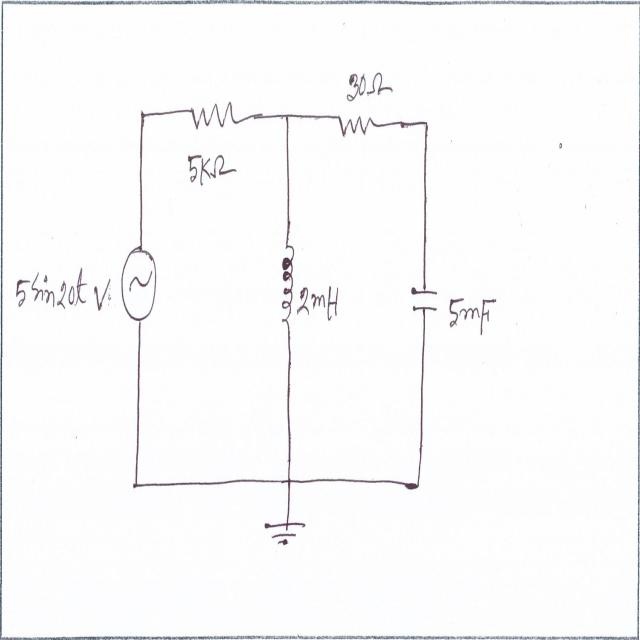ac_current: (119, 236, 158, 325)
capacitor: (407, 281, 438, 319)
ground: (262, 514, 310, 552)
inductor: (277, 240, 297, 327)
resistor: (190, 86, 246, 141), (332, 102, 382, 143)
